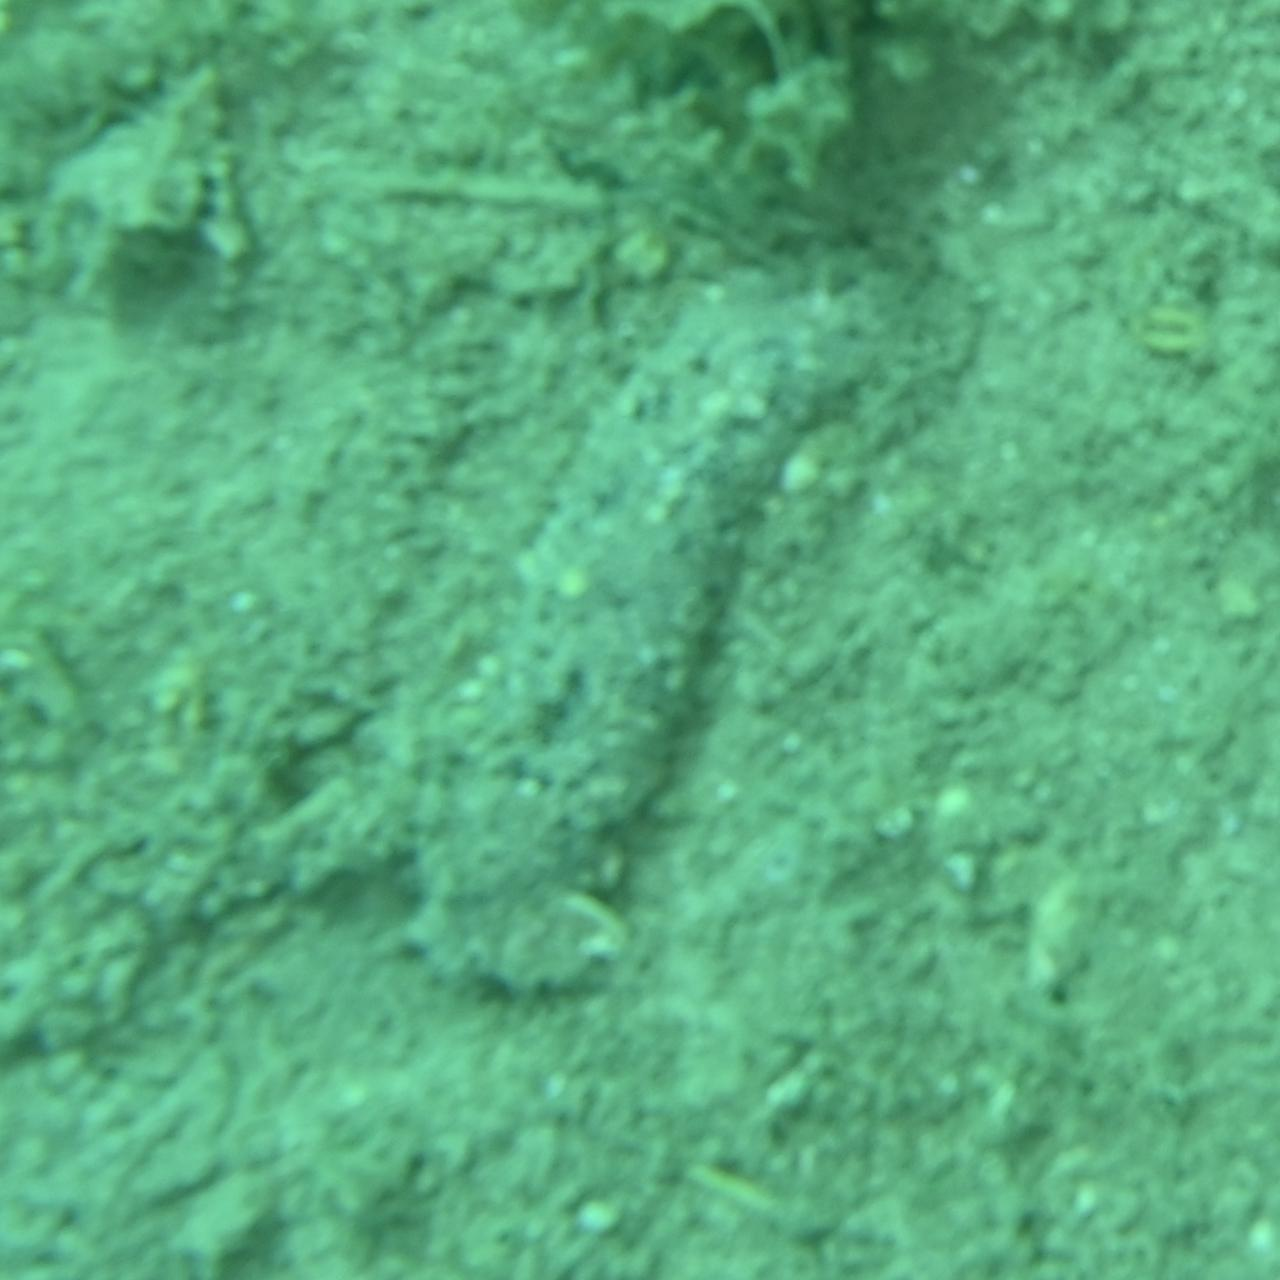Holothuria tubulosa: (394, 282, 886, 998)
